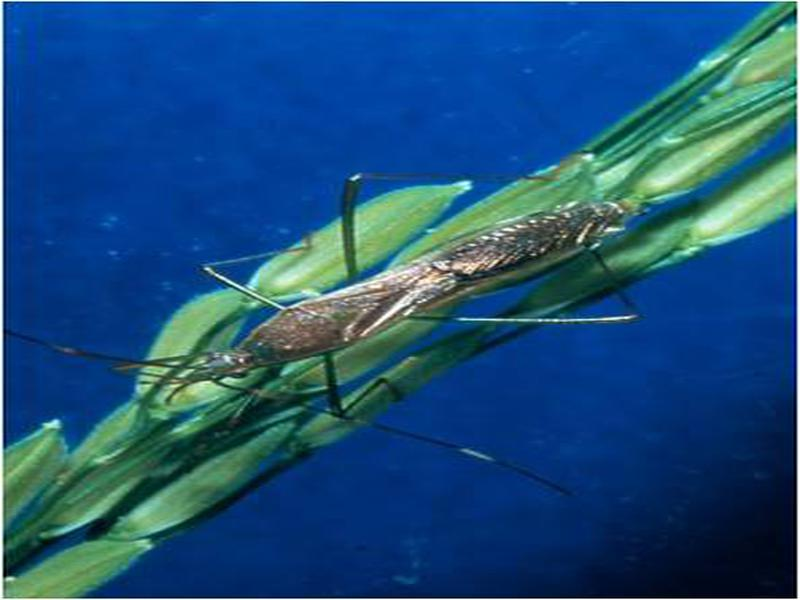Rice_earhead_bug: (178, 176, 629, 387)
